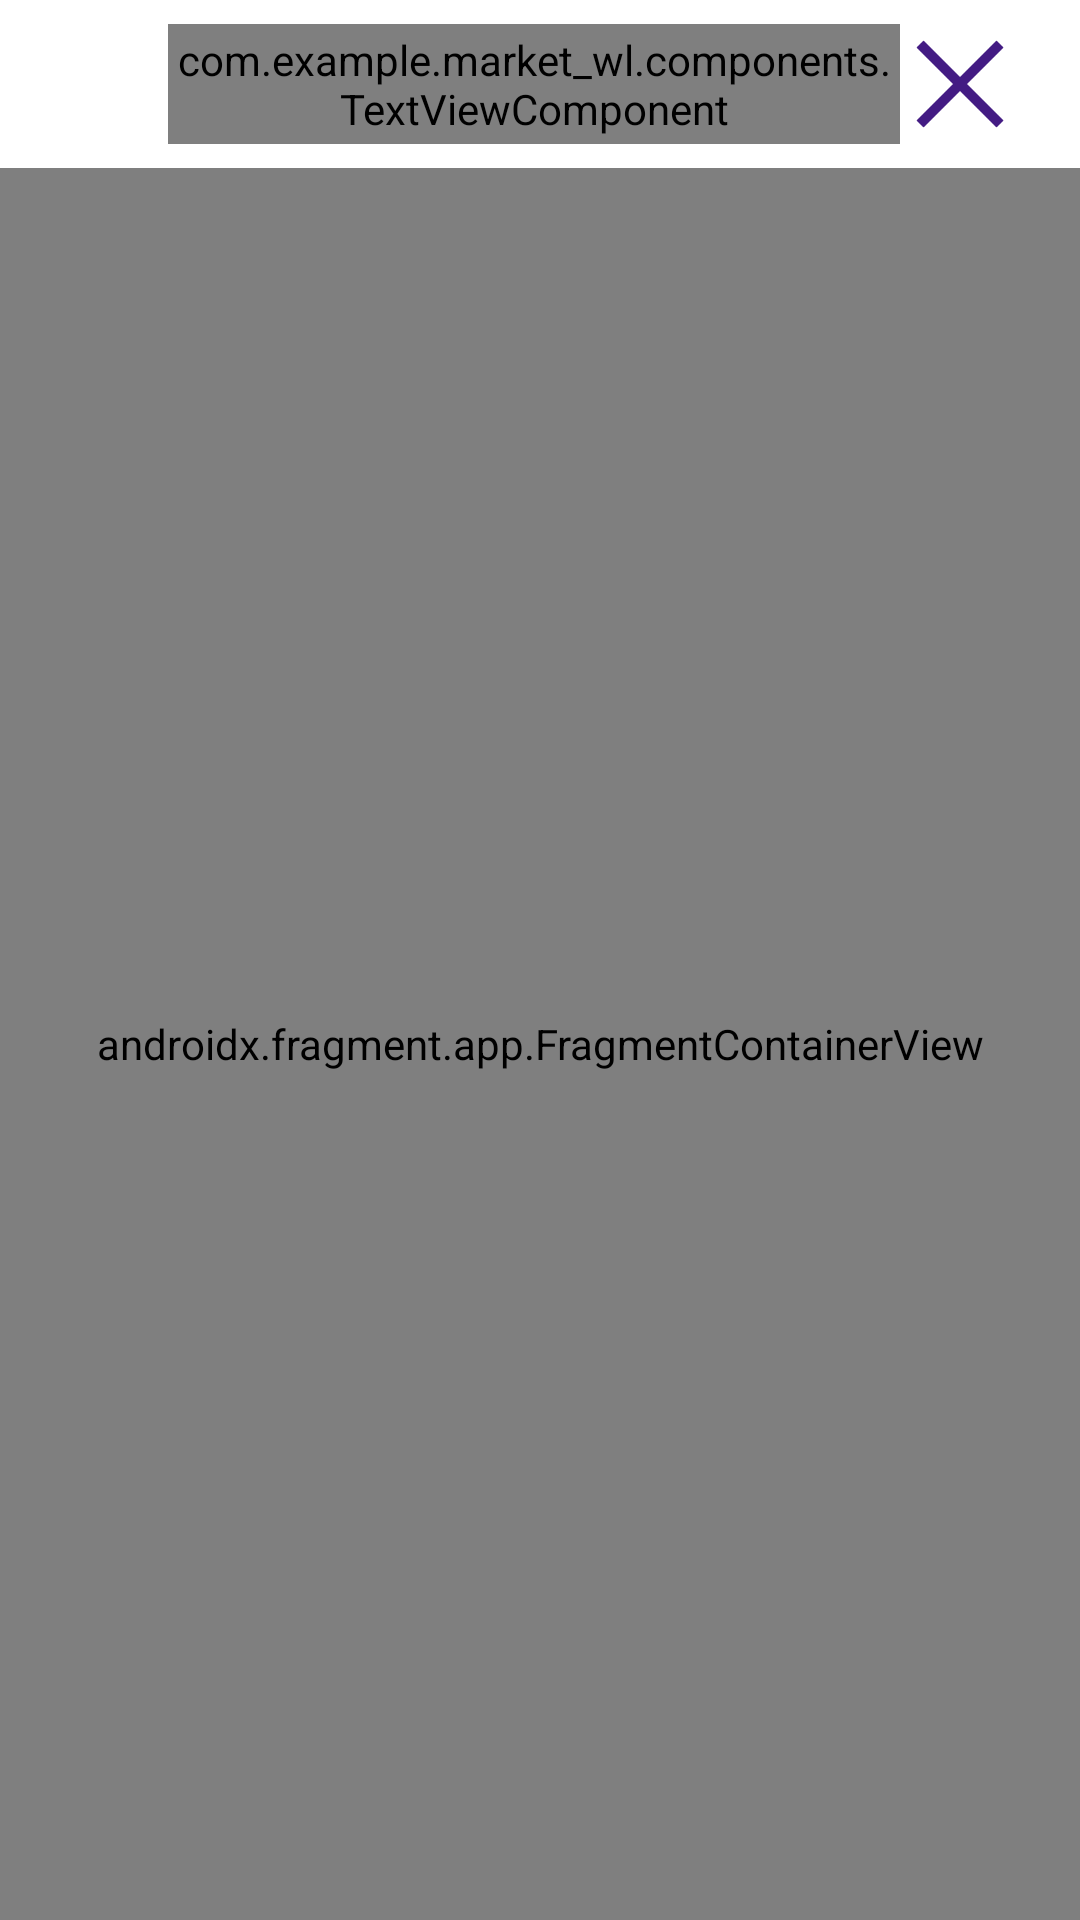

Icon bounding boxes for this 1080 x 1920 phone screenshot, format (x1, y1, x2, y2):
exit: (916, 40, 1004, 128)
